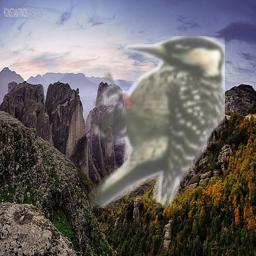Woodpecker: (88, 36, 225, 208)
